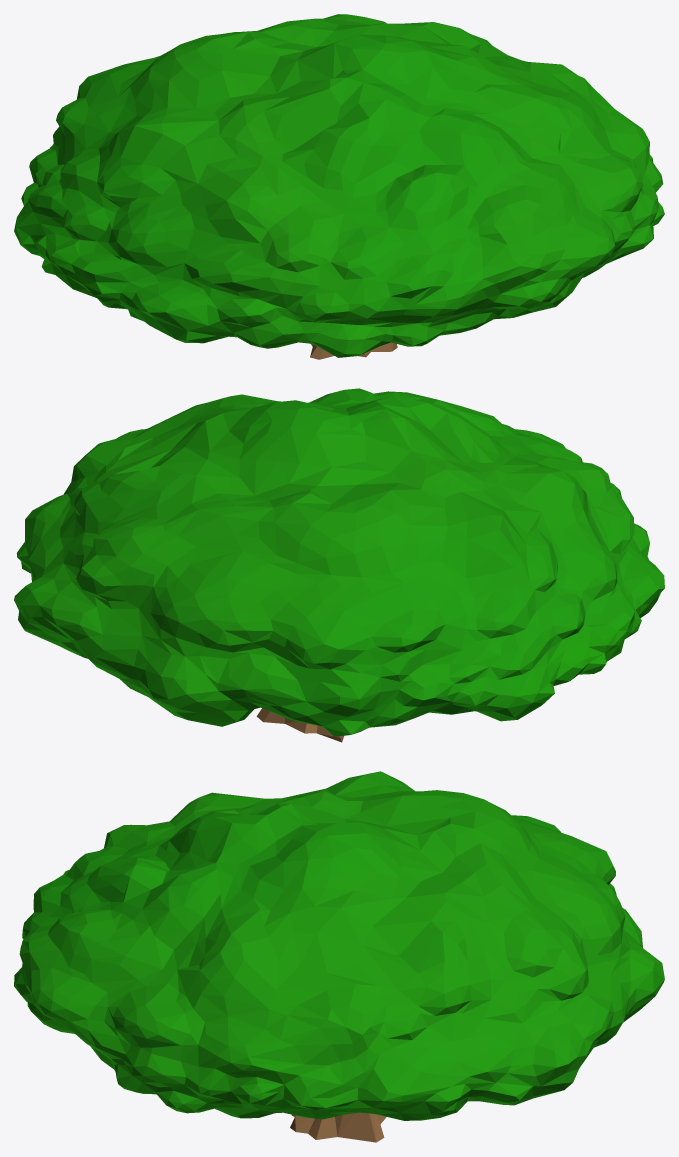
The model's file is tree C.fbx.
3 views of the same model, one above another, from view 1: azimuth 30°, elevation 25°; view 2: azimuth 150°, elevation 25°; view 3: azimuth 270°, elevation 25° (orthographic). The views are drawn at different scales.
Parts seen in each view (by area): view 1: Icosphere.001; view 2: Icosphere.001; view 3: Icosphere.001.
Boxes of the visible parts, x1,y1,x2,y2 form: Icosphere.001: (14, 14, 664, 359); Icosphere.001: (14, 388, 664, 742); Icosphere.001: (14, 771, 664, 1142).
Bounding box in the file's own units: 3699 × 1835 × 3632.
